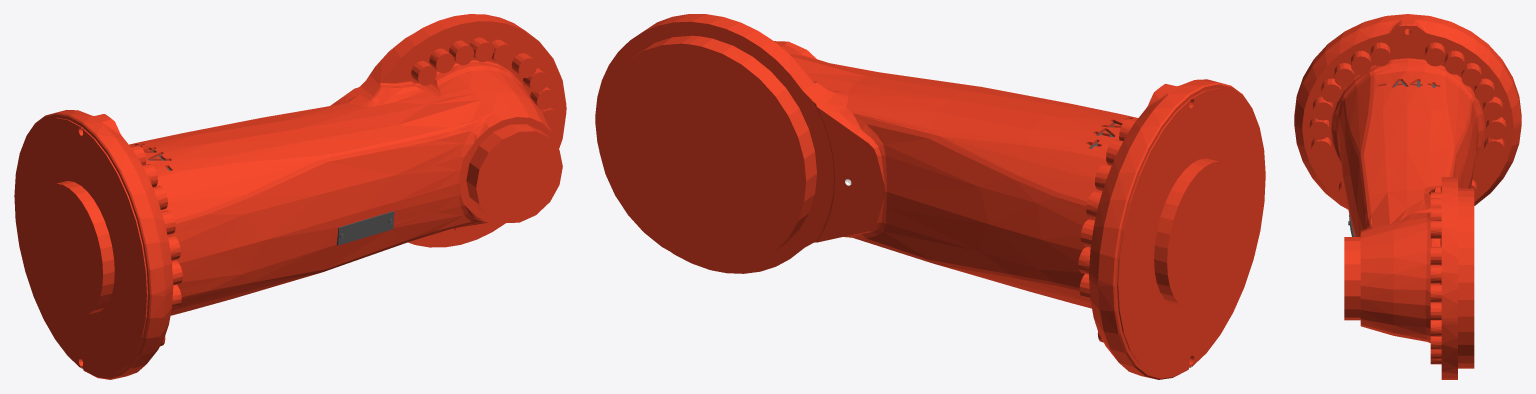
3 views of the same model, side by side, from view 1: azimuth 30°, elevation 25°; view 2: azimuth 150°, elevation 25°; view 3: azimuth 270°, elevation 25° (orthographic). The views are drawn at different scales.
Visible parts, largest first — view 1: link_4; view 2: link_4; view 3: link_4.
Boxes of the visible parts, <box> form: link_4: <box>14,14,566,379</box>; link_4: <box>595,14,1265,379</box>; link_4: <box>1294,14,1521,379</box>.
Bounding box in the file's own units: 0.4416 × 0.202 × 0.202.
